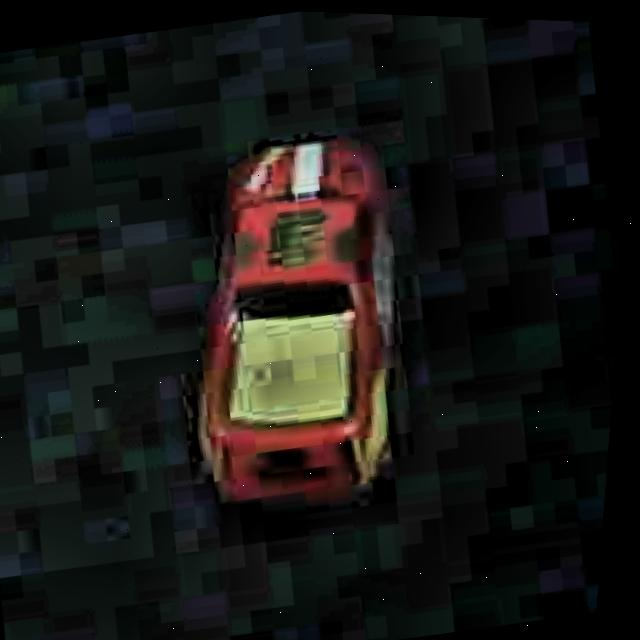car: (138, 112, 447, 530)
